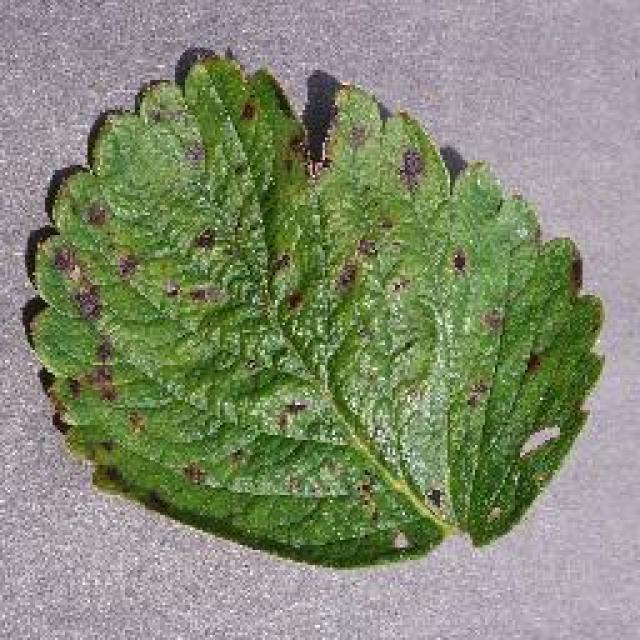Strawberry leaf scorch: (53, 140, 532, 477)
